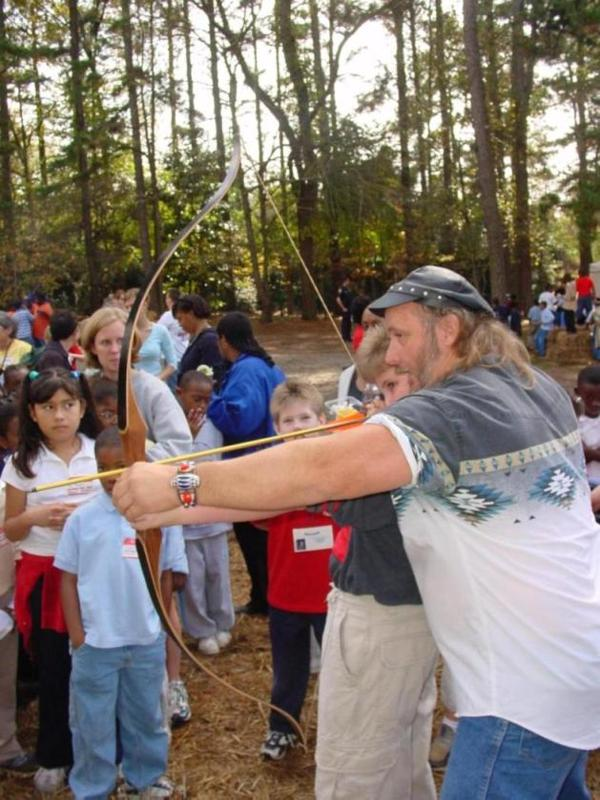person: (112, 266, 600, 800)
